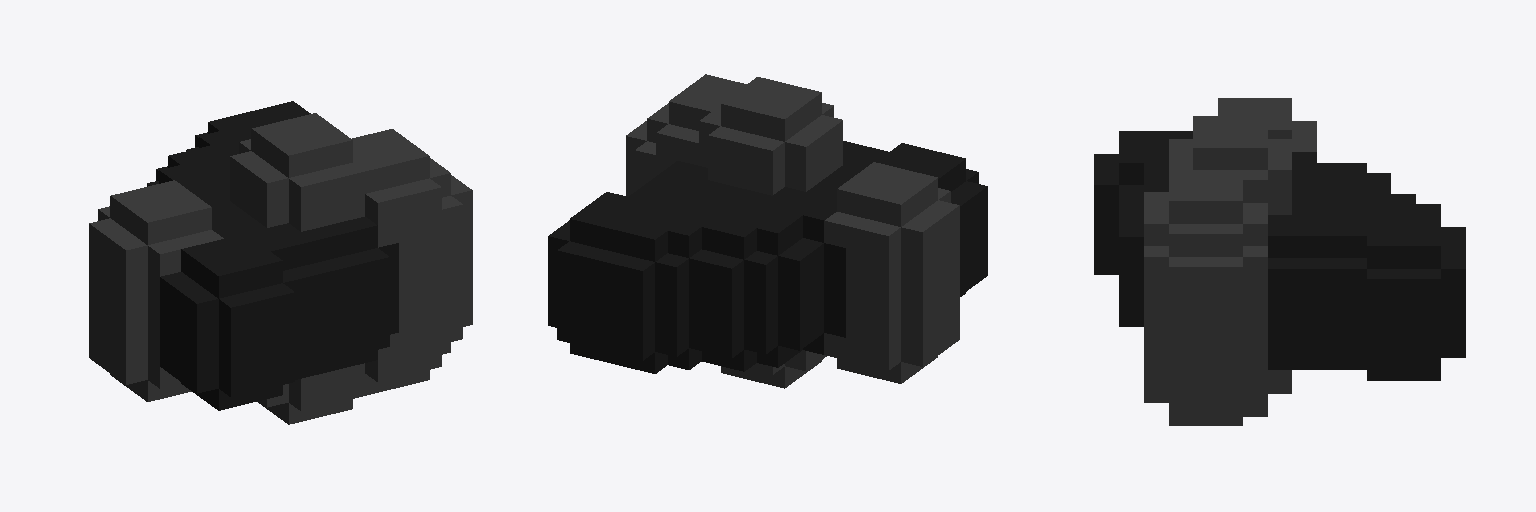
The picture shows the model from 3 angles: view 1: azimuth 30°, elevation 25°; view 2: azimuth 150°, elevation 25°; view 3: azimuth 270°, elevation 25°; orthographic projection.
Visible parts, largest first — view 1: rock_5; view 2: rock_5; view 3: rock_5.
Boxes of the visible parts, box(x1,y1,x2,y2) form: rock_5: box(89, 101, 472, 424); rock_5: box(548, 74, 987, 388); rock_5: box(1094, 98, 1465, 425).
Size of the model in its own units: 15 by 12 by 15.
Materials: 1 (1 with a texture image).